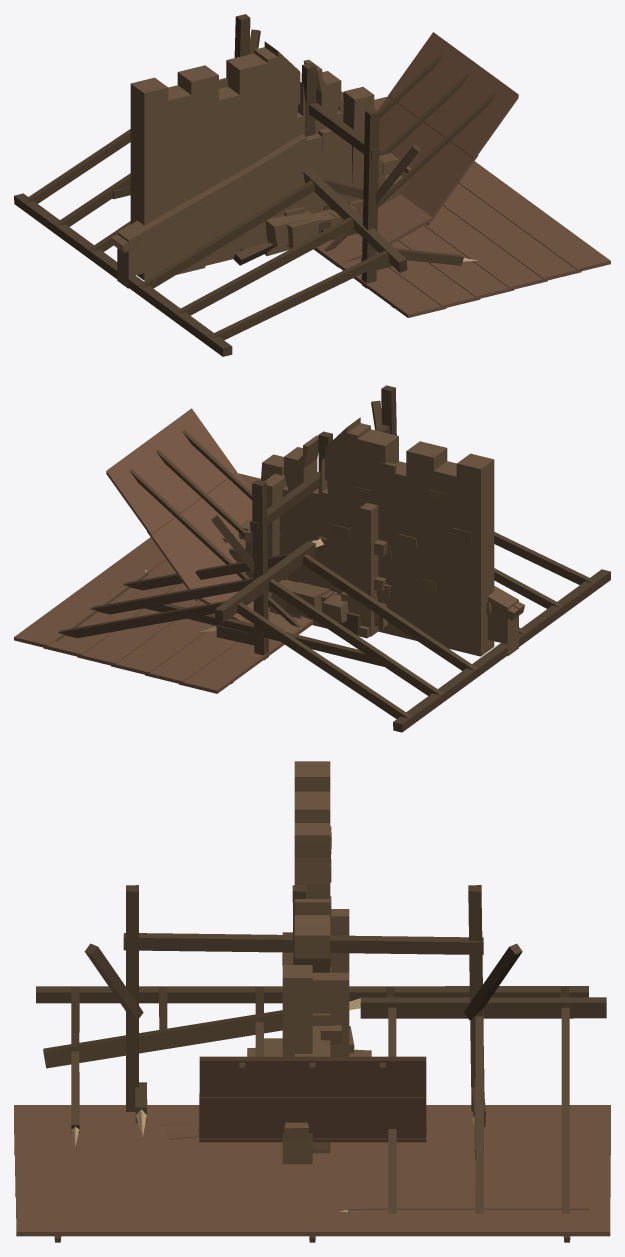
The model's file is 02_SM_Farm_Ruins_SABOTE.glb.
3 renders of one model, top to bottom at view 1: azimuth 30°, elevation 25°; view 2: azimuth 150°, elevation 25°; view 3: azimuth 270°, elevation 25°, orthographic. The views are drawn at different scales.
Parts seen in each view (by area): view 1: SM_Farm_WallBreak_North, SM_Farm_RoofPan_Intact, SM_Farm_RoofPan_Fallen, SM_Farm_Truss, SM_Farm_GableBreak, SM_Farm_InteriorFrame, SM_Farm_Rubble_Wall; view 2: SM_Farm_WallBreak_North, SM_Farm_Truss, SM_Farm_RoofPan_Fallen, SM_Farm_RoofPan_Intact, SM_Farm_InteriorFrame, SM_Farm_Jamb_Door, SM_Farm_GableBreak, SM_Farm_Rubble_Wall, SM_Farm_Jamb_Breach, SM_Farm_JoistStubs; view 3: SM_Farm_RoofPan_Intact, SM_Farm_Truss, SM_Farm_RoofPan_Fallen, SM_Farm_InteriorFrame, SM_Farm_WallBreak_North, SM_Farm_GableBreak, SM_Farm_Jamb_Door, SM_Farm_JoistStubs, SM_Farm_Rubble_Wall.
Boxes of the visible parts, x1,y1,x2,y2 form: SM_Farm_WallBreak_North: (130, 41, 385, 280); SM_Farm_RoofPan_Intact: (314, 96, 610, 317); SM_Farm_RoofPan_Fallen: (314, 32, 518, 267); SM_Farm_Truss: (14, 129, 477, 356); SM_Farm_GableBreak: (111, 87, 411, 288); SM_Farm_InteriorFrame: (234, 14, 420, 288); SM_Farm_Rubble_Wall: (233, 199, 363, 265); SM_Farm_WallBreak_North: (243, 417, 494, 656); SM_Farm_Truss: (56, 532, 610, 732); SM_Farm_RoofPan_Fallen: (106, 408, 312, 634); SM_Farm_RoofPan_Intact: (14, 473, 313, 693); SM_Farm_InteriorFrame: (211, 385, 396, 660); SM_Farm_Jamb_Door: (264, 474, 387, 638); SM_Farm_GableBreak: (222, 454, 524, 656); SM_Farm_Rubble_Wall: (268, 576, 387, 627); SM_Farm_Jamb_Breach: (268, 528, 378, 636); SM_Farm_JoistStubs: (200, 592, 271, 645); SM_Farm_RoofPan_Intact: (14, 1105, 610, 1242); SM_Farm_Truss: (36, 986, 606, 1213); SM_Farm_RoofPan_Fallen: (162, 1056, 426, 1142); SM_Farm_InteriorFrame: (84, 885, 522, 1111); SM_Farm_WallBreak_North: (294, 761, 331, 1153); SM_Farm_GableBreak: (282, 932, 312, 1164); SM_Farm_Jamb_Door: (312, 909, 349, 1056); SM_Farm_JoistStubs: (135, 1082, 485, 1136); SM_Farm_Rubble_Wall: (247, 1026, 371, 1056).
Size of the model in its own units: 6.76 by 3.28 by 6.8.
